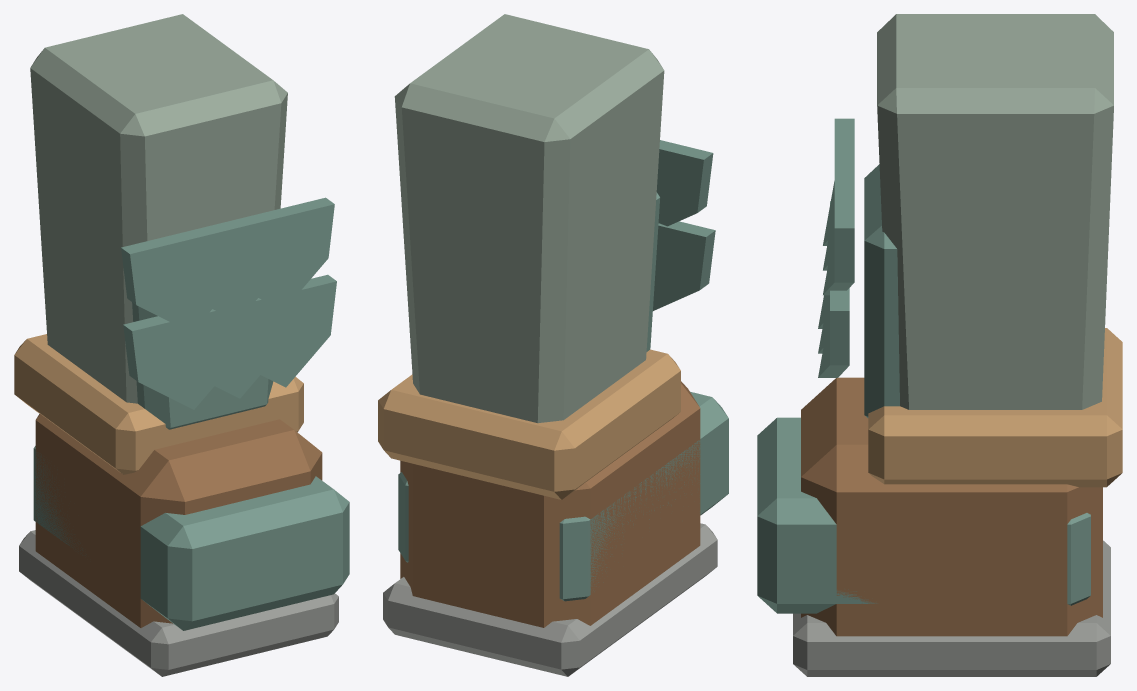
File: Dragon_Defender_RightLeg.fbx
3 views of the same model, side by side, from view 1: azimuth 30°, elevation 25°; view 2: azimuth 150°, elevation 25°; view 3: azimuth 270°, elevation 25° (orthographic). The views are drawn at different scales.
Visible parts, largest first — view 1: Dragon_Defender_RightLeg; view 2: Dragon_Defender_RightLeg; view 3: Dragon_Defender_RightLeg.
Boxes of the visible parts, box(x1,y1,x2,y2) form: Dragon_Defender_RightLeg: box(14, 14, 349, 676); Dragon_Defender_RightLeg: box(378, 14, 728, 676); Dragon_Defender_RightLeg: box(757, 14, 1122, 676).
Size of the model in its own units: 32.67 by 80.75 by 46.
